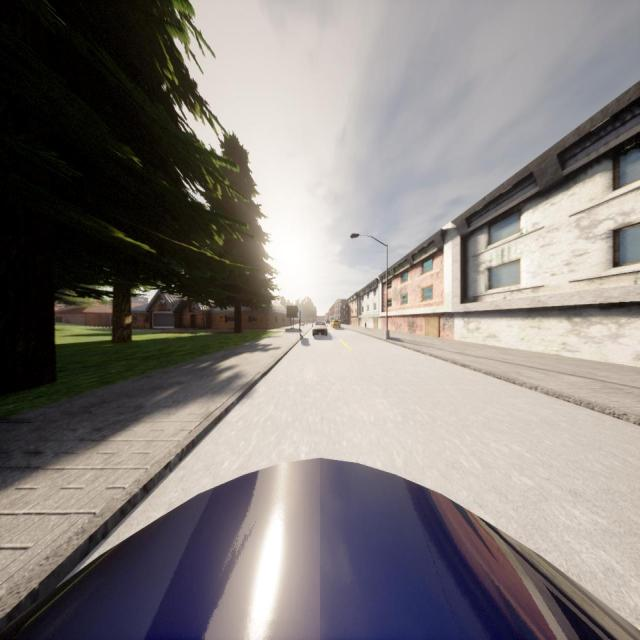Pedestrian: (363, 321, 368, 330)
Traffic_Signs: (296, 310, 304, 318)
Vehicle: (0, 457, 640, 640), (312, 320, 328, 337), (330, 320, 341, 329)
